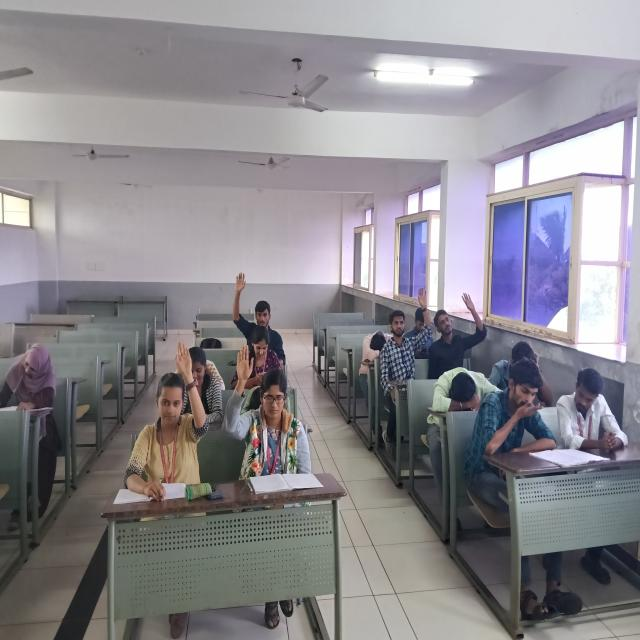Hand Rising: (223, 338, 305, 486), (131, 336, 213, 483), (225, 264, 287, 366), (385, 277, 431, 399), (436, 286, 482, 364)
Reading: (553, 357, 627, 470)
Sleeping: (419, 361, 512, 432), (355, 319, 392, 372)
Writing: (0, 331, 64, 414)
